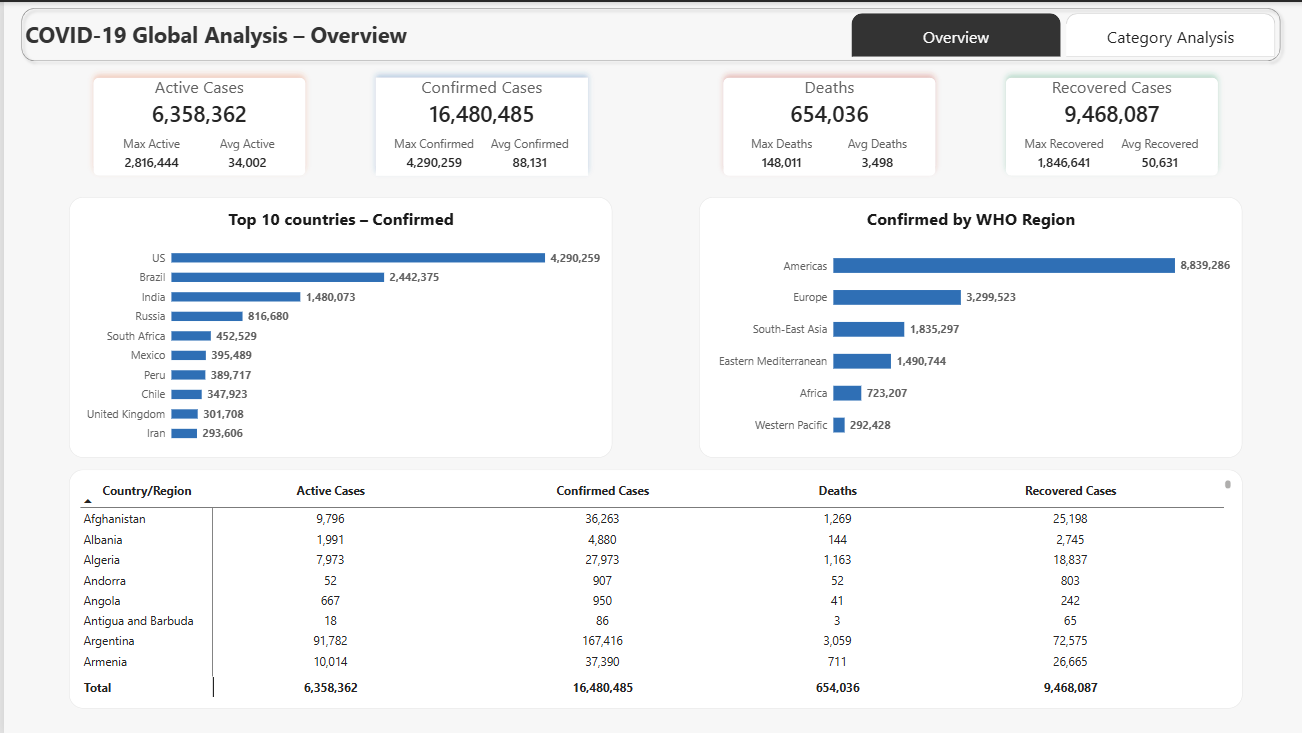

What the dashboard file says about the page in this screenshot:
{"tool":"powerbi","page":{"name":"Overview","canvas":[1920,1080],"ordinal":0},"visuals":[{"type":"cardVisual","fields":{"Data":["Dax.Total Confirmed Cases"]},"box":[512,96,384,176],"z":0},{"type":"shape","box":[16,0,1872,96],"z":1000},{"type":"barChart","title":"Top 10 countries – Confirmed","fields":{"Category":["Covid 19.Country/Region"],"Y":["Dax.Total Confirmed Cases"]},"box":[96,288,800,384],"z":2000},{"type":"barChart","title":"Confirmed by WHO Region","fields":{"Category":["Covid 19.WHO Region"],"Y":["Dax.Total Confirmed Cases"]},"box":[1024,288,800,384],"z":3000},{"type":"cardVisual","fields":{"Data":["Dax.Total Active Cases"]},"box":[96,96,384,176],"z":4000},{"type":"cardVisual","fields":{"Data":["Dax.Total Deaths"]},"box":[1024,96,384,176],"z":5000},{"type":"cardVisual","fields":{"Data":["Dax.Total Recovered"]},"box":[1440,96,384,176],"z":6000},{"type":"pageNavigator","box":[1248,16,624,64],"z":7000},{"type":"pivotTable","fields":{"Rows":["Covid 19.Country/Region"],"Values":["Dax.Total Active Cases","Dax.Total Confirmed Cases","Dax.Total Deaths","Dax.Total Recovered"]},"box":[96,688,1728,352],"z":9000}]}

Visuals, with their boxes in screenshot pixels (x1, y1, x2, y2), scaled from the page's 1920x1080 canvas onto the 1302x733 screenshot:
cardVisual - Dax.Total Confirmed Cases: crop(347, 65, 608, 185)
shape: crop(11, 0, 1280, 65)
"Top 10 countries – Confirmed" barChart: crop(65, 195, 608, 456)
"Confirmed by WHO Region" barChart: crop(694, 195, 1237, 456)
cardVisual - Dax.Total Active Cases: crop(65, 65, 326, 185)
cardVisual - Dax.Total Deaths: crop(694, 65, 955, 185)
cardVisual - Dax.Total Recovered: crop(976, 65, 1237, 185)
pageNavigator: crop(846, 11, 1269, 54)
pivotTable - Covid 19.Country/Region x Dax.Total Active Cases: crop(65, 467, 1237, 706)
